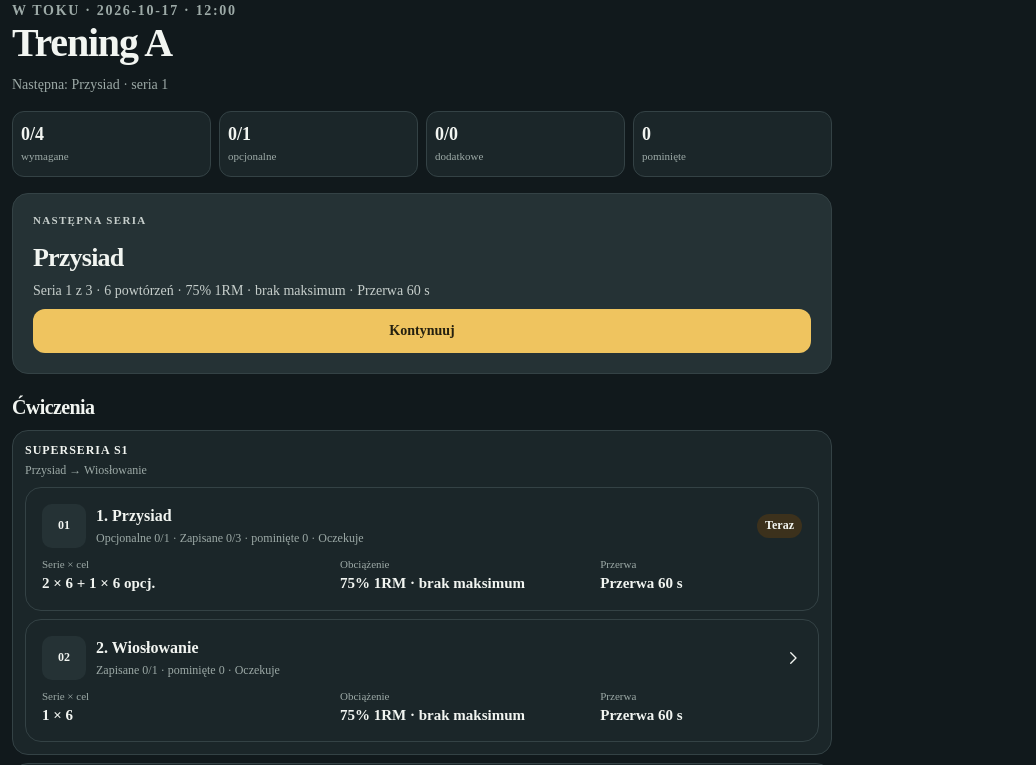
Test case: główny zapis serii jest poza przewijaną treścią formularza
Click the button "1. Przysiad": coordinates (64, 526) [26,488,818,610]
(page scrolled)
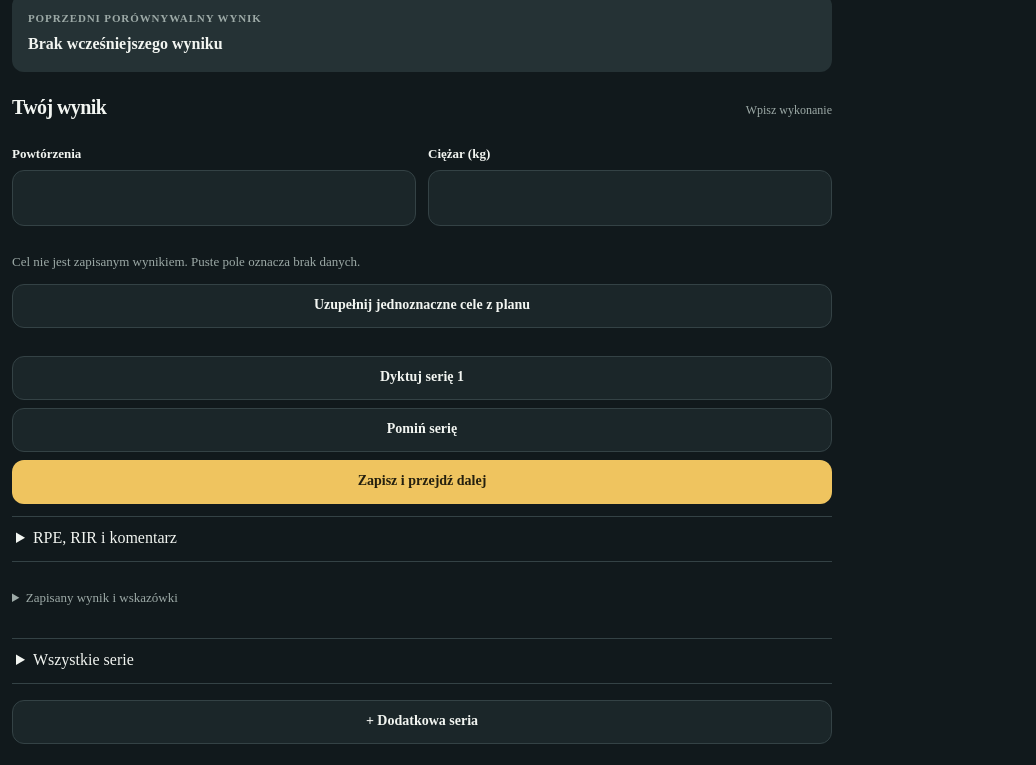
Expected: the element "Zapisz i przejdź dalej" is shown, [12,460,832,504]
